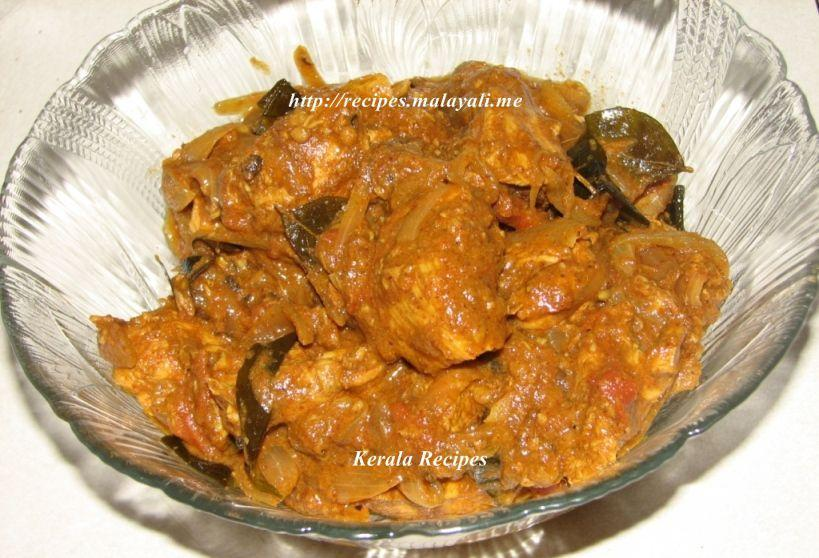chicken: (117, 76, 733, 516)
